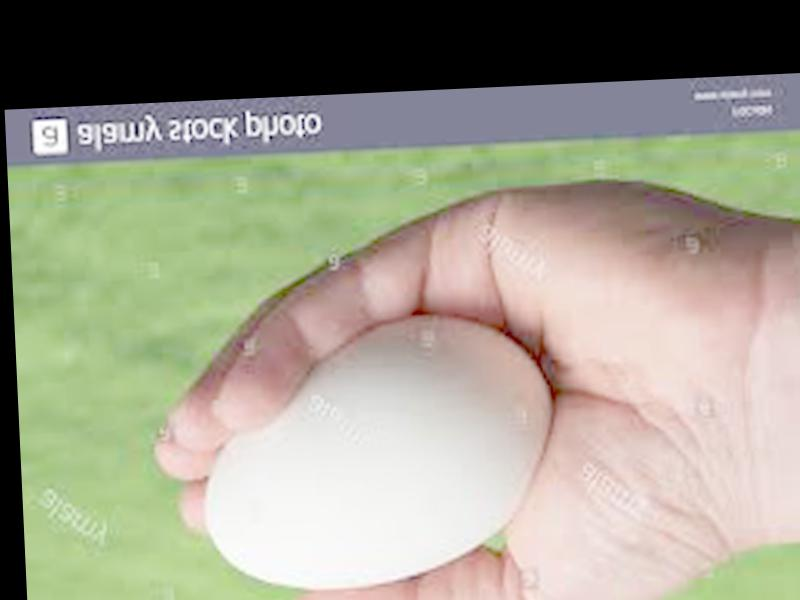Eggs: (198, 309, 564, 597)
